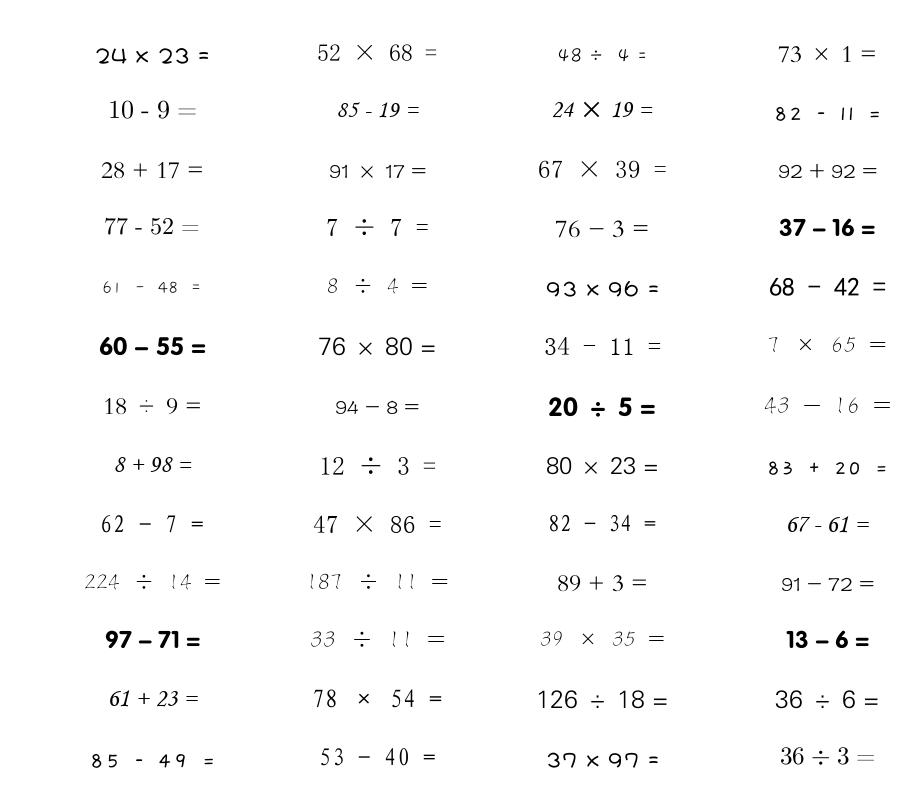MQ: (536, 690, 668, 709), (312, 689, 442, 708), (306, 573, 449, 590), (538, 160, 667, 178), (313, 515, 442, 533), (310, 631, 445, 648), (764, 396, 891, 414), (318, 337, 436, 356), (769, 277, 886, 296), (319, 456, 436, 475), (84, 574, 221, 590), (548, 397, 656, 417), (99, 336, 206, 356), (544, 337, 661, 355), (319, 748, 436, 766), (317, 44, 437, 61), (767, 336, 887, 353), (546, 457, 659, 475), (775, 690, 879, 709), (548, 514, 656, 532), (546, 280, 659, 297), (89, 753, 216, 768), (540, 631, 665, 646), (100, 515, 204, 533), (326, 218, 429, 236), (95, 48, 210, 64), (779, 218, 875, 237), (546, 752, 659, 768), (105, 630, 200, 649), (101, 162, 204, 179), (551, 101, 653, 118), (104, 217, 200, 235), (780, 747, 875, 765), (766, 461, 888, 475), (555, 220, 649, 238), (108, 100, 197, 119), (778, 46, 877, 63), (103, 398, 202, 415), (773, 106, 882, 121), (327, 278, 428, 294), (778, 163, 877, 179), (786, 630, 869, 649), (557, 575, 648, 592), (107, 690, 198, 707), (785, 516, 869, 533), (329, 164, 426, 178), (557, 48, 647, 63), (336, 102, 419, 118), (781, 577, 874, 591), (102, 281, 202, 294), (335, 400, 419, 415), (113, 457, 192, 472)
